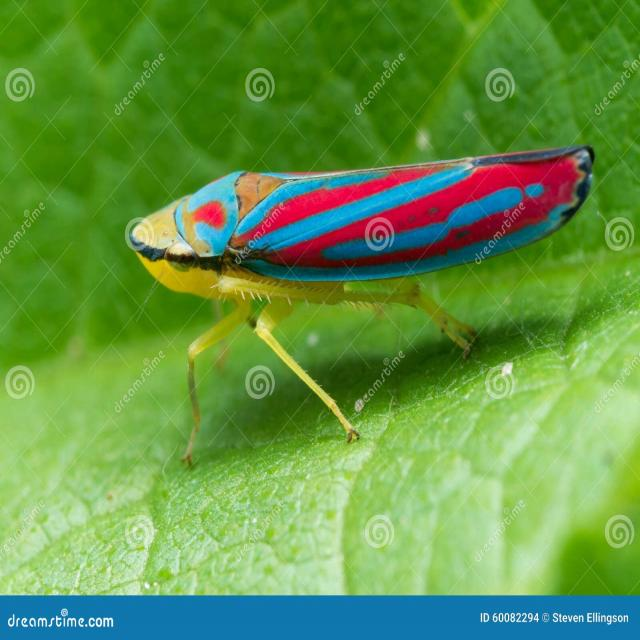Yechan: (113, 138, 589, 377)
